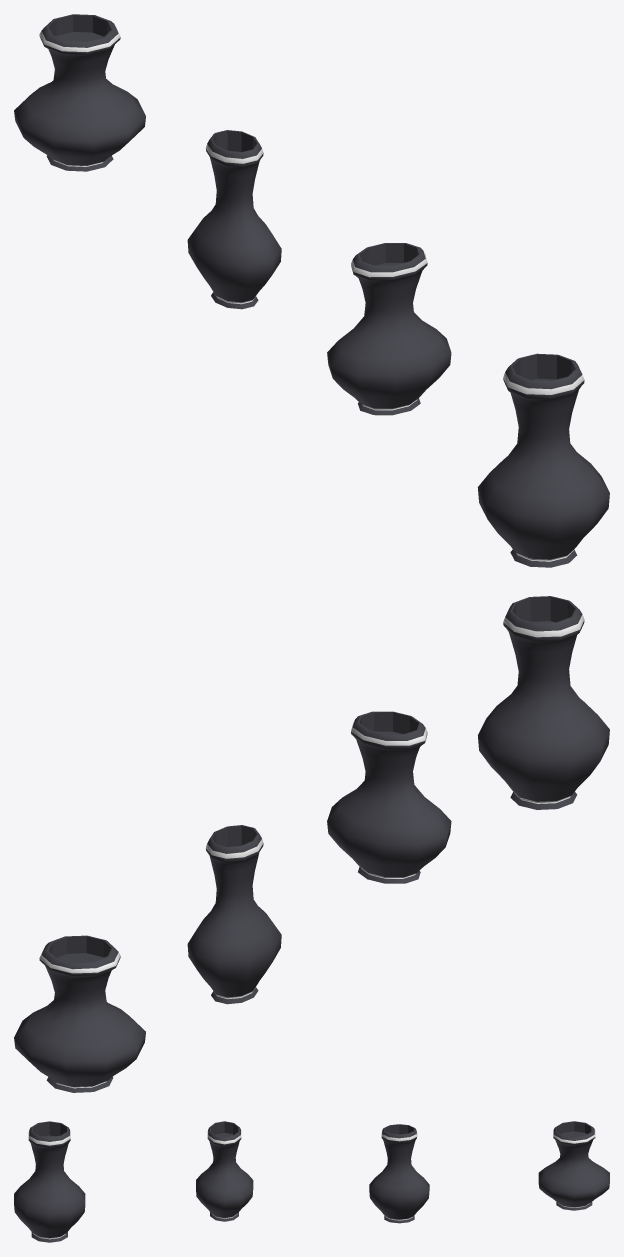
Rendered from vase.FBX.
3 renders of one model, top to bottom at view 1: azimuth 30°, elevation 25°; view 2: azimuth 150°, elevation 25°; view 3: azimuth 270°, elevation 25°, orthographic. The views are drawn at different scales.
Parts seen in each view (by area): view 1: Cylinder001, Cylinder002, Cylinder004, Cylinder003; view 2: Cylinder001, Cylinder002, Cylinder004, Cylinder003; view 3: Cylinder001, Cylinder004, Cylinder003, Cylinder002.
Part boxes in pixels (box(x1,y1,x2,y2)): Cylinder001: box(477, 353, 609, 567); Cylinder002: box(327, 243, 451, 415); Cylinder004: box(14, 14, 145, 171); Cylinder003: box(187, 130, 281, 309); Cylinder001: box(478, 596, 609, 809); Cylinder002: box(327, 711, 451, 883); Cylinder004: box(14, 935, 145, 1092); Cylinder003: box(187, 825, 281, 1004); Cylinder001: box(14, 1121, 85, 1242); Cylinder004: box(538, 1121, 609, 1210); Cylinder003: box(369, 1124, 429, 1223); Cylinder002: box(196, 1121, 253, 1221).
Bounding box in the file's own units: 0.6472 × 1 × 5.13.
